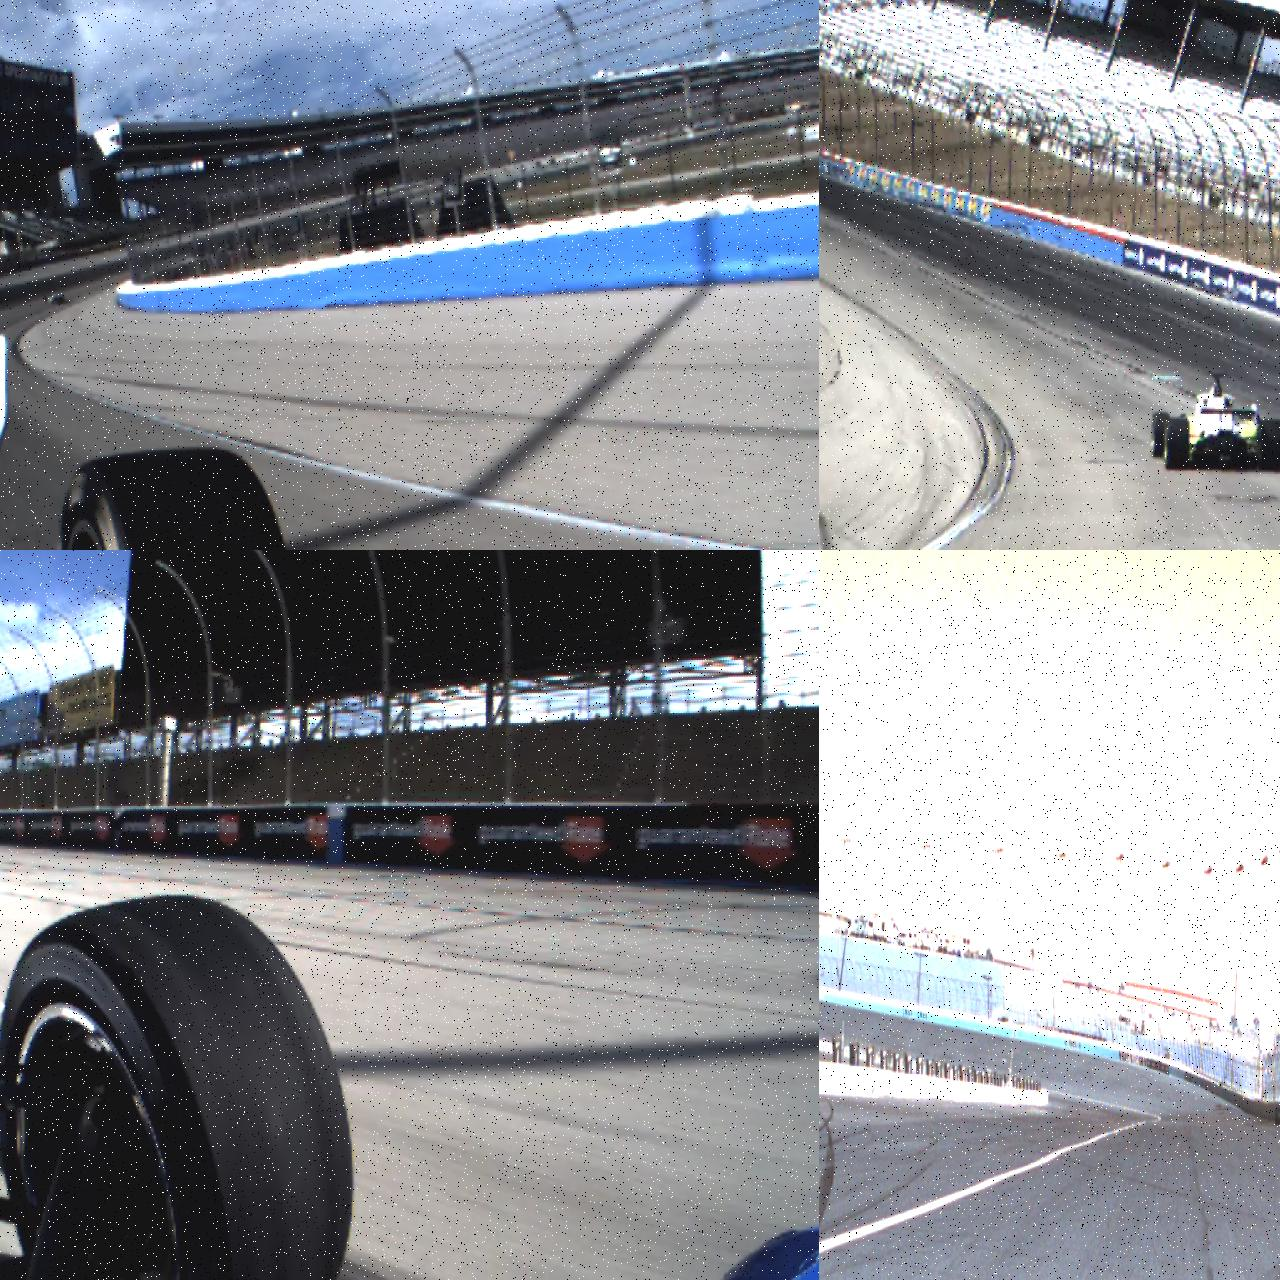AV: (1151, 370, 1280, 472), (44, 294, 64, 304)
Wheel: (0, 894, 353, 1280), (58, 446, 298, 550), (1165, 419, 1189, 471), (1260, 419, 1280, 471), (1152, 412, 1170, 458), (1275, 1107, 1280, 1125)
